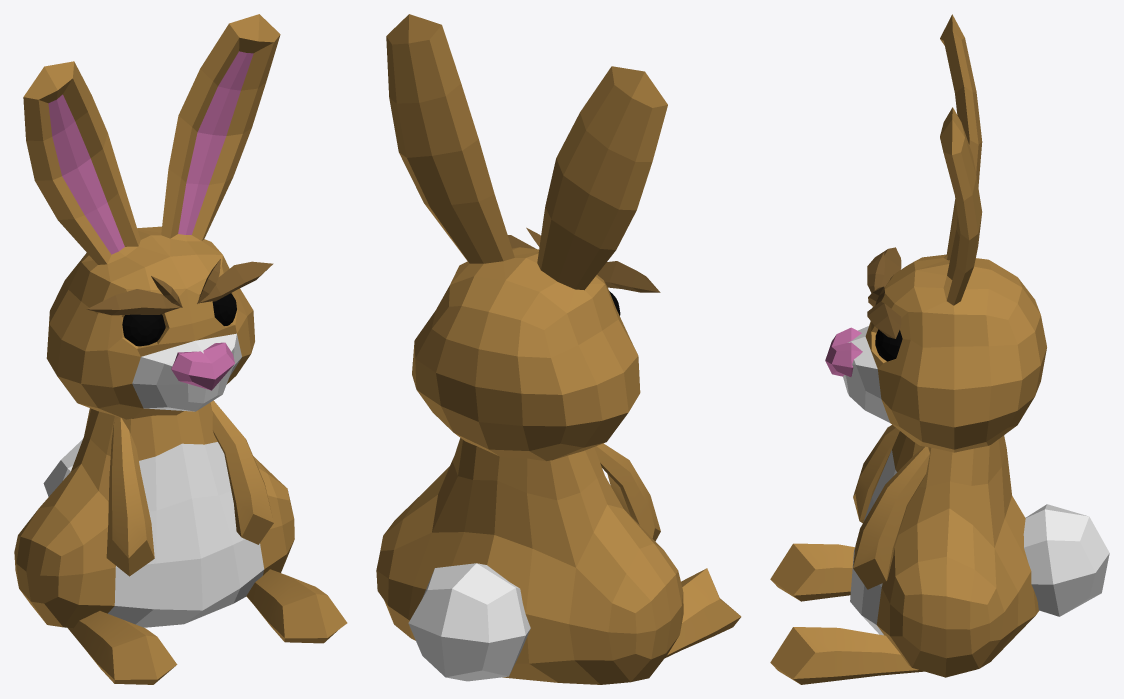
Rendered from rabbit.fbx.
3 views of the same model, side by side, from view 1: azimuth 30°, elevation 25°; view 2: azimuth 150°, elevation 25°; view 3: azimuth 270°, elevation 25° (orthographic). The views are drawn at different scales.
Parts seen in each view (by area): view 1: rabbit; view 2: rabbit; view 3: rabbit.
Boxes of the visible parts, x1,y1,x2,y2 form: rabbit: (14, 14, 347, 684); rabbit: (376, 14, 741, 684); rabbit: (770, 14, 1109, 684).
Size of the model in its own units: 27.81 by 58.82 by 31.67.
